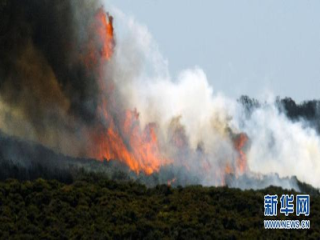fire: (94, 111, 174, 172), (235, 134, 249, 173)
smoke: (50, 13, 104, 120), (249, 100, 314, 185)
